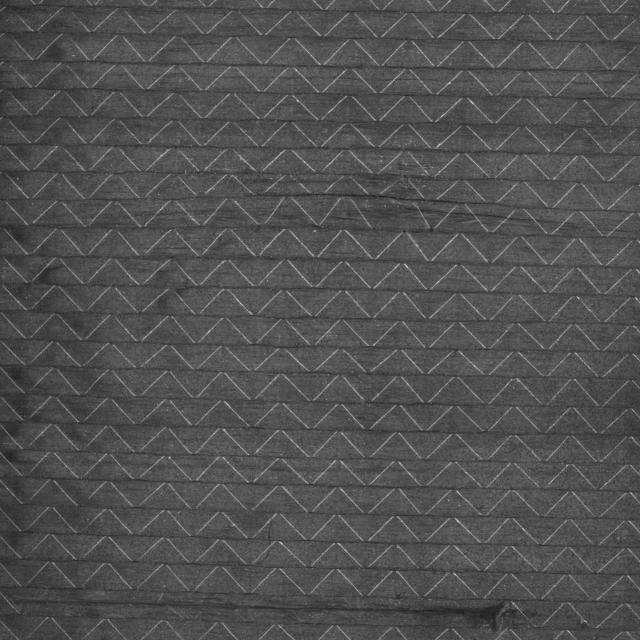carbon-fibre-defect: (21, 586, 535, 629), (316, 167, 465, 234)
